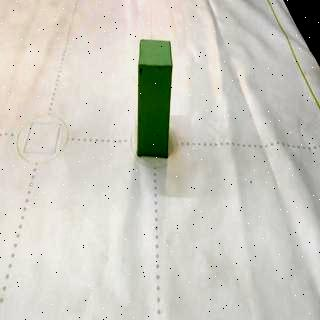greenbox: (139, 36, 174, 158)
